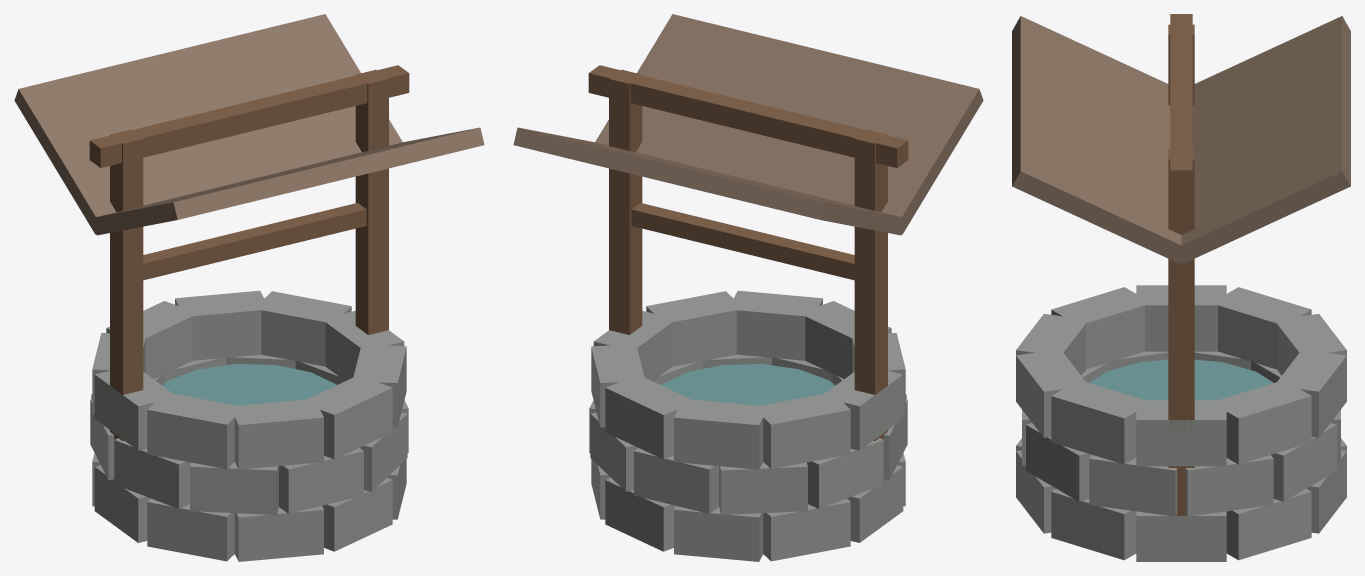
The model's file is liska_well.glb.
The picture shows the model from 3 angles, left to right: view 1: azimuth 30°, elevation 25°; view 2: azimuth 150°, elevation 25°; view 3: azimuth 270°, elevation 25°; orthographic projection. The views are drawn at different scales.
Parts seen in each view (by area): view 1: Well - Warm grey stone, Well - Old shingles, Well - Weathered oak, Well - Water in the well; view 2: Well - Warm grey stone, Well - Old shingles, Well - Weathered oak, Well - Water in the well; view 3: Well - Warm grey stone, Well - Old shingles, Well - Weathered oak, Well - Water in the well.
Part boxes in pixels (x1,y1,x2,y2): Well - Warm grey stone: [90, 290, 408, 561]; Well - Old shingles: [14, 14, 484, 235]; Well - Weathered oak: [89, 65, 409, 480]; Well - Water in the well: [162, 364, 336, 405]; Well - Warm grey stone: [589, 290, 907, 561]; Well - Old shingles: [513, 14, 983, 235]; Well - Weathered oak: [588, 65, 908, 480]; Well - Water in the well: [661, 364, 835, 405]; Well - Warm grey stone: [1016, 285, 1346, 561]; Well - Old shingles: [1012, 16, 1350, 263]; Well - Weathered oak: [1168, 14, 1194, 521]; Well - Water in the well: [1089, 359, 1273, 400].
Size of the model in its own units: 1.96 by 2.36 by 1.8.
